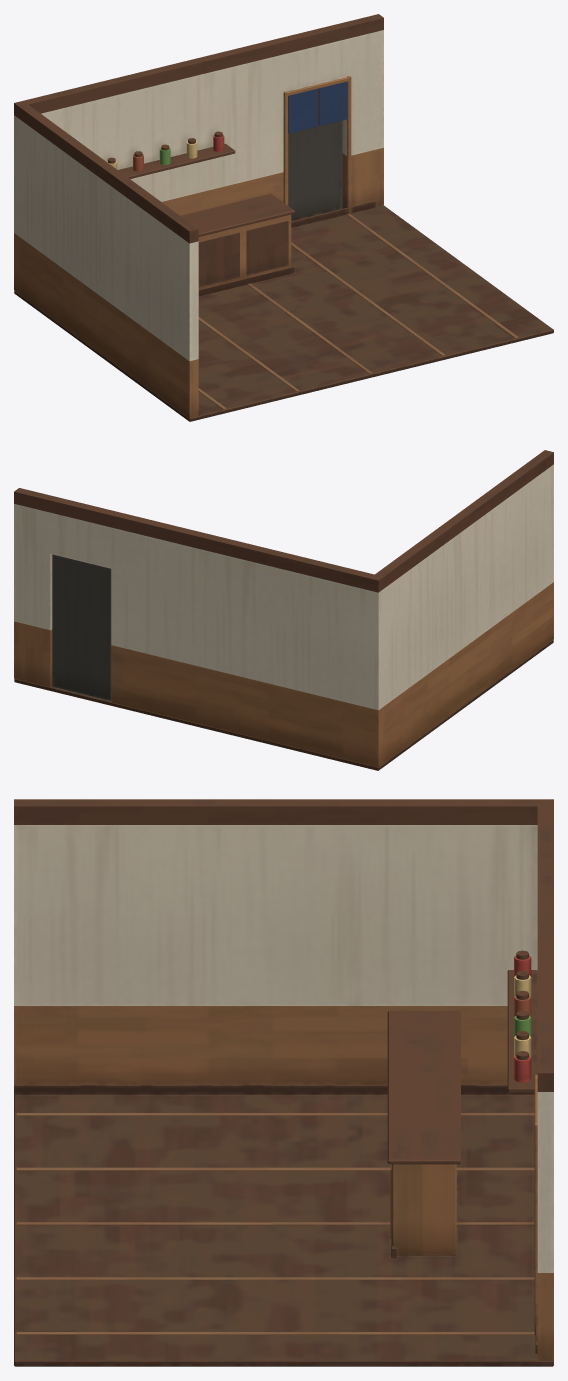
Rendered from tea_house_shell.glb.
The picture shows the model from 3 angles, top to bottom: view 1: azimuth 30°, elevation 25°; view 2: azimuth 150°, elevation 25°; view 3: azimuth 270°, elevation 25°; orthographic projection. The views are drawn at different scales.
Parts seen in each view (by area): view 1: tea_house_shell; view 2: tea_house_shell; view 3: tea_house_shell.
Part boxes in pixels (x1=…): tea_house_shell: x1=14, y1=14, x2=553, y2=421; tea_house_shell: x1=14, y1=450, x2=553, y2=770; tea_house_shell: x1=14, y1=799, x2=553, y2=1366.
Size of the model in its own units: 6 by 3 by 5.
9 materials, 8 textured.
